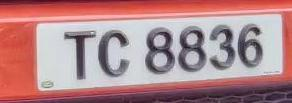3: (208, 18, 240, 78)
6: (235, 18, 268, 75)
8: (140, 21, 179, 83), (175, 19, 210, 80)
C: (94, 25, 137, 84)
T: (57, 25, 100, 86)
